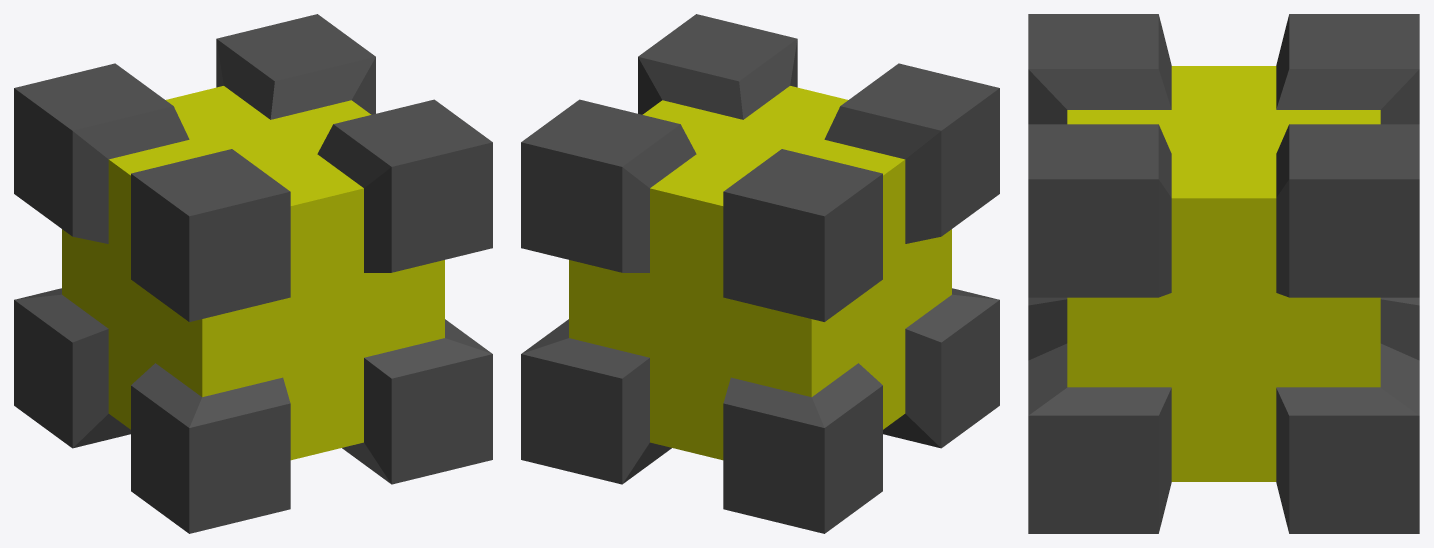
3 views of the same model, side by side, from view 1: azimuth 30°, elevation 25°; view 2: azimuth 150°, elevation 25°; view 3: azimuth 270°, elevation 25° (orthographic). The views are drawn at different scales.
Visible parts, largest first — view 1: Cube; view 2: Cube; view 3: Cube.
Part boxes in pixels (left/top/right/bottom): Cube: left=14, top=14, right=492, bottom=533; Cube: left=521, top=14, right=999, bottom=533; Cube: left=1028, top=14, right=1419, bottom=533.
Bounding box in the file's own units: 200 × 200 × 200.
